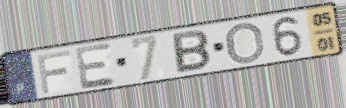6: (270, 15, 305, 58)
7: (130, 34, 161, 81)
B: (170, 28, 213, 76)
E: (73, 40, 118, 91)
F: (35, 49, 73, 96)
O: (225, 21, 267, 65)
